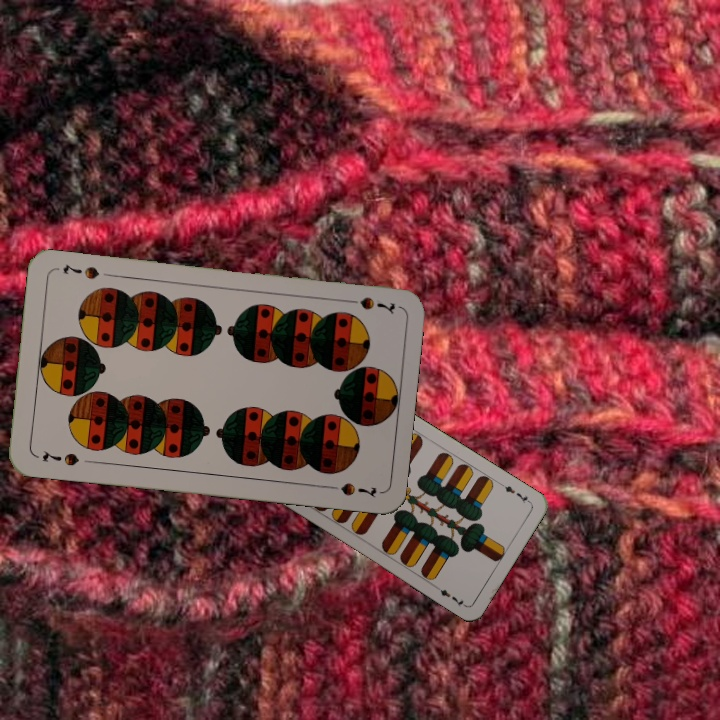E7: (497, 479, 533, 506)
S7: (341, 293, 398, 317), (38, 447, 82, 469)
